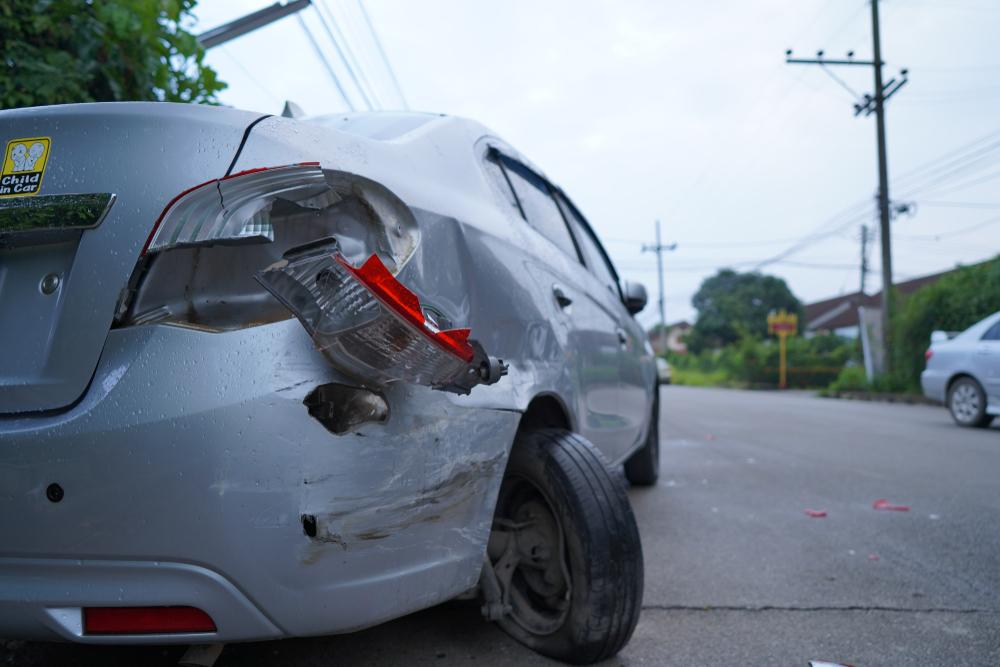crack: (298, 383, 396, 438)
dent: (400, 220, 564, 390)
lamp broken: (112, 174, 509, 390)
scratch: (280, 417, 506, 570)
tire flat: (478, 425, 642, 666)
